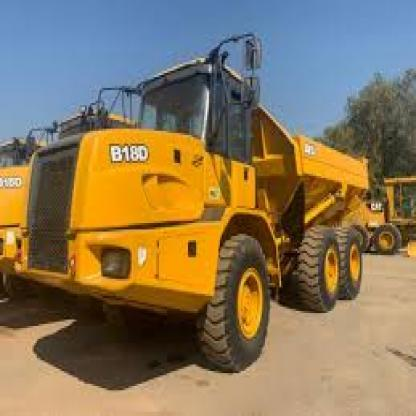dump_truck: (10, 37, 395, 376)
